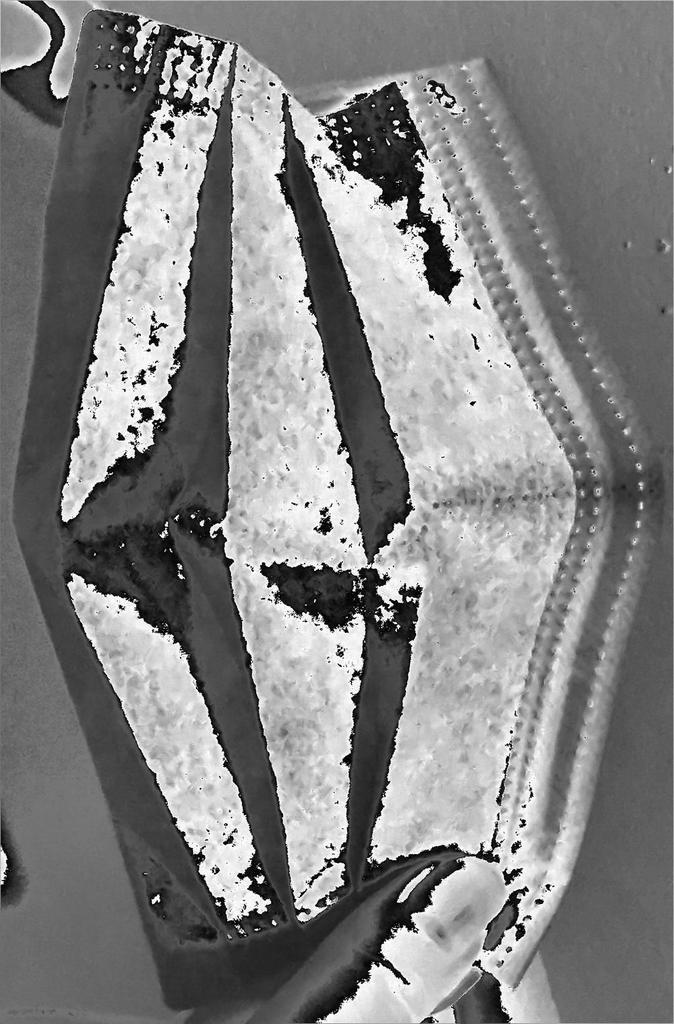High GSM: (53, 96, 496, 862)
